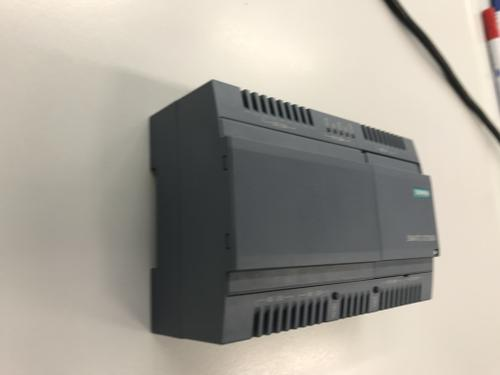device: (149, 80, 441, 346)
